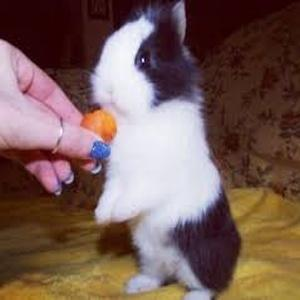rabbit: (90, 2, 242, 300)
